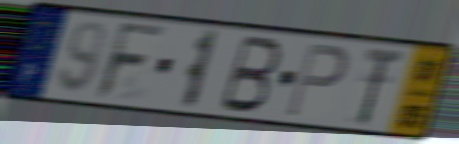1: (182, 26, 223, 113)
9: (55, 20, 109, 96)
B: (215, 32, 284, 116)
F: (92, 20, 171, 103)
P: (283, 40, 351, 120)
T: (354, 45, 408, 128)
